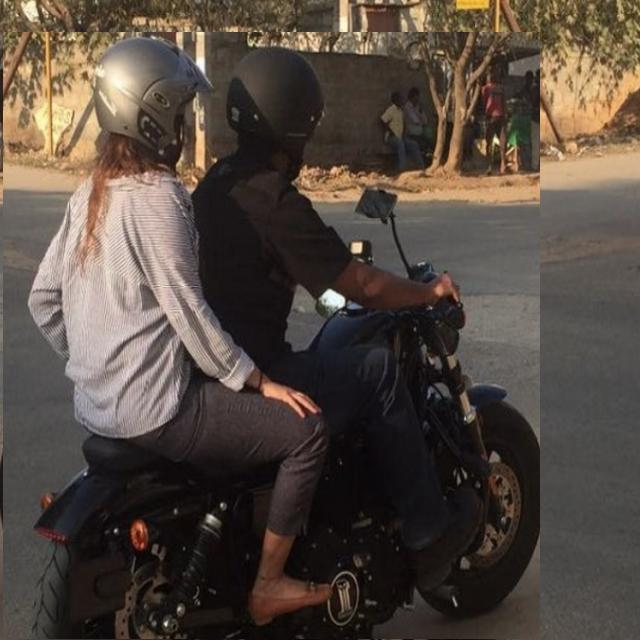With Helmet: (4, 32, 542, 639)
